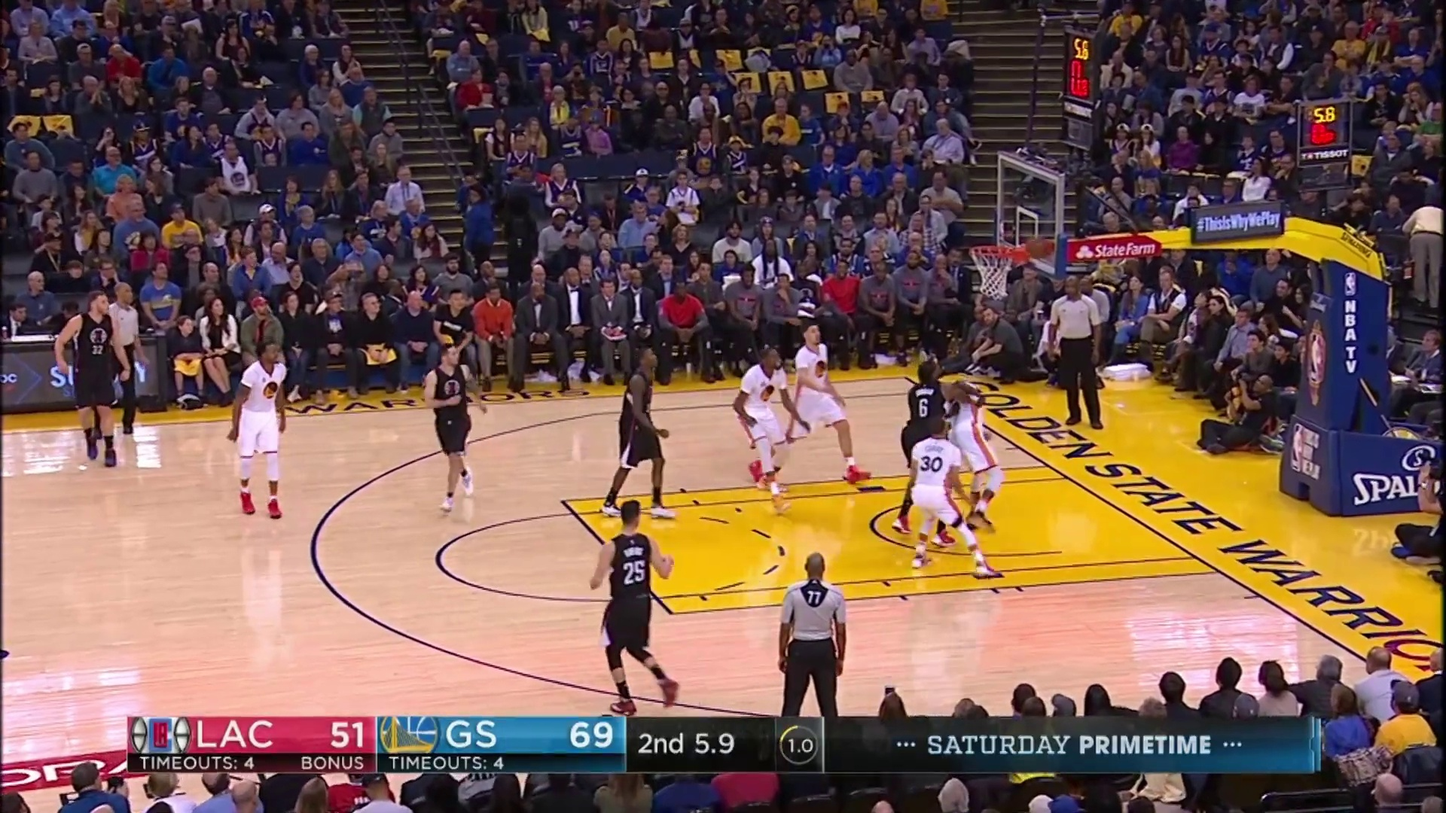basket_hoop: (925, 148, 1088, 297)
